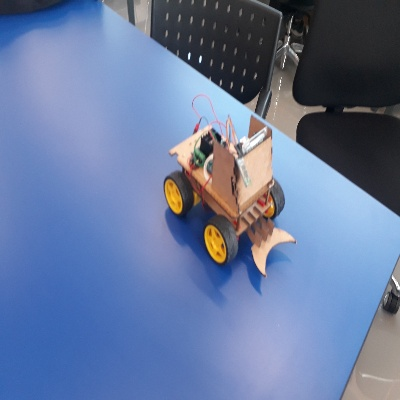Robot: (162, 113, 297, 279)
